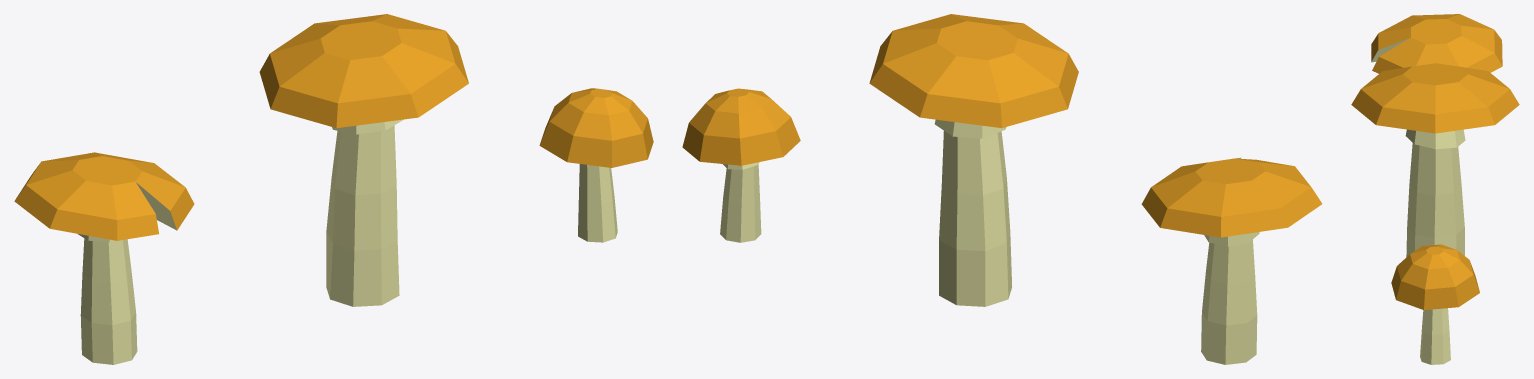
File: low_poly_mushrooms_2.glb
3 renders of one model, left to right at view 1: azimuth 30°, elevation 25°; view 2: azimuth 150°, elevation 25°; view 3: azimuth 270°, elevation 25°, orthographic. The views are drawn at different scales.
Parts seen in each view (by area): view 1: Circle, Circle.003, Circle.002; view 2: Circle, Circle.003, Circle.002; view 3: Circle, Circle.003, Circle.002.
Part boxes in pixels (x1,y1,x2,y2): Circle: (259, 14, 468, 306); Circle.003: (14, 152, 194, 364); Circle.002: (539, 88, 653, 242); Circle: (869, 14, 1078, 306); Circle.003: (1141, 157, 1322, 364); Circle.002: (682, 88, 800, 242); Circle: (1351, 63, 1519, 256); Circle.003: (1371, 14, 1502, 73); Circle.002: (1391, 244, 1479, 364).
Bounding box in the file's own units: 107 × 42.48 × 32.89.
